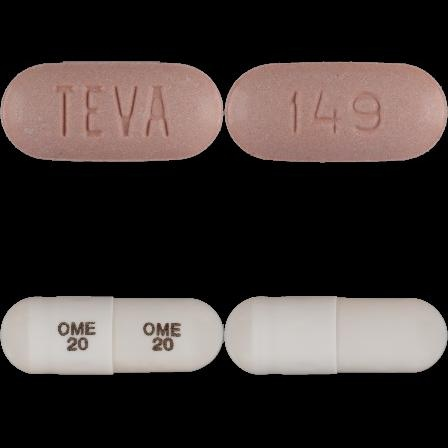76237-214: (0, 0, 224, 224)
